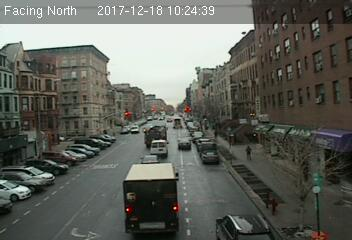car: (217, 210, 270, 240), (200, 150, 220, 163), (178, 138, 192, 148)
truck: (151, 141, 169, 156)
ups: (122, 163, 180, 236)
